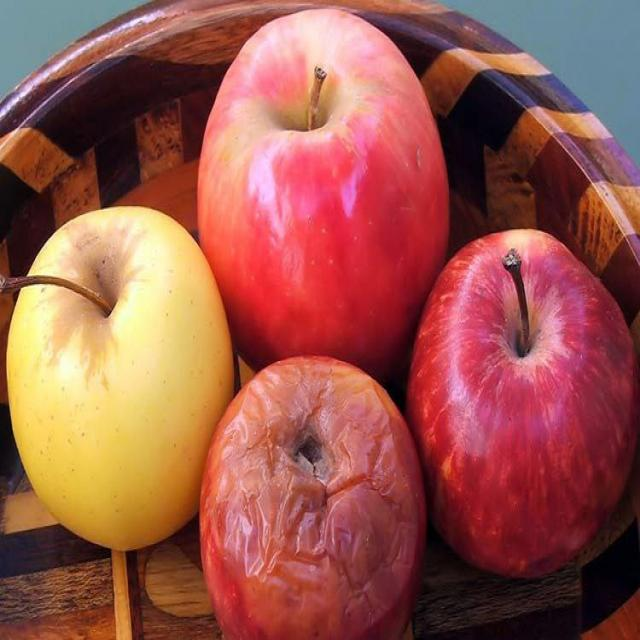fresh_apple: (202, 14, 448, 355), (416, 210, 635, 582), (7, 220, 198, 554)
rotten_apple: (203, 357, 422, 640)
